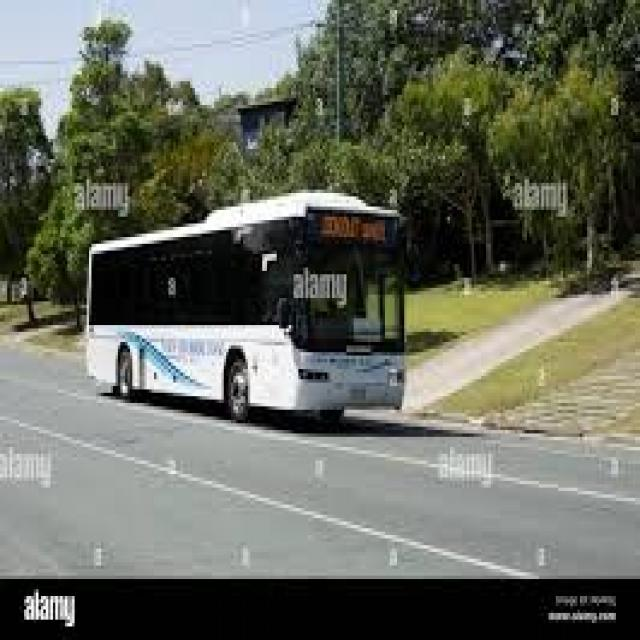bus: (75, 192, 421, 446)
